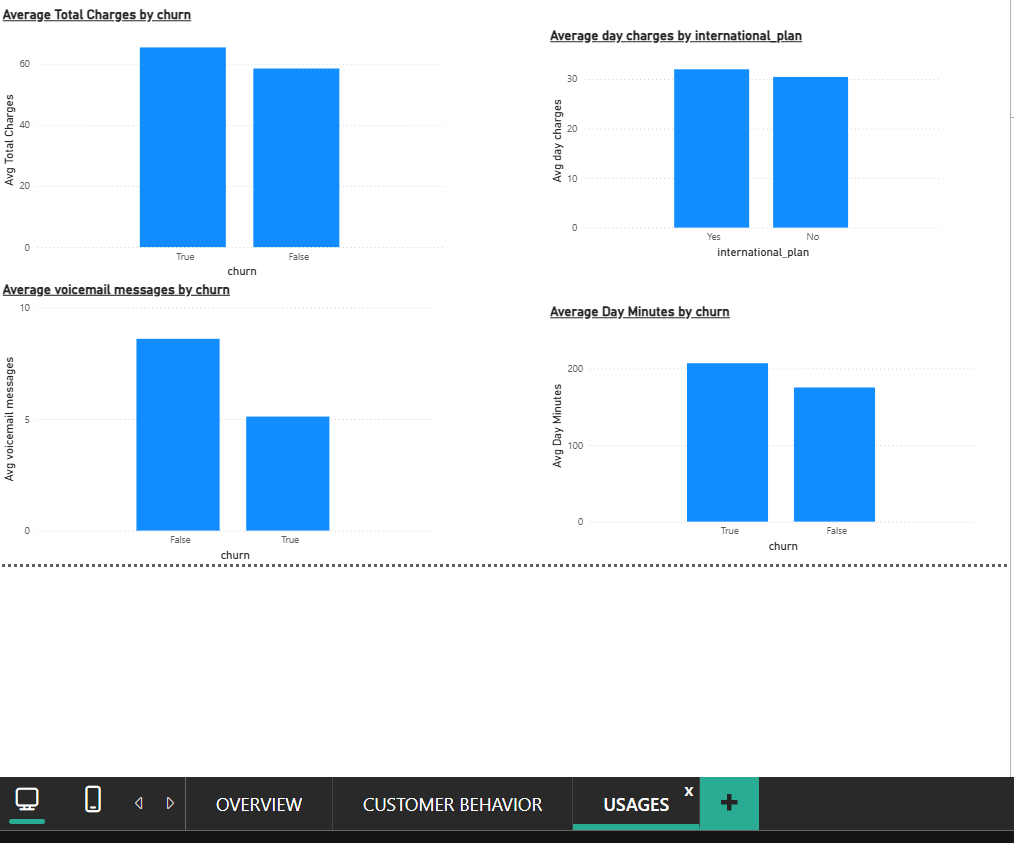

Layout of this report page (visuals, bound fields, positions):
{"tool":"powerbi","page":{"name":"USAGES","canvas":[1280,720],"ordinal":2},"visuals":[{"type":"columnChart","title":"Average Total Charges by churn","fields":{"Category":["churn_clean.churn"],"Y":["churn_clean.Avg Total Charges"]},"box":[5.7,17,568.8,345.8],"z":0},{"type":"clusteredColumnChart","title":"Average day charges by international_plan","fields":{"Y":["churn_clean.Avg day charges"],"Category":["churn_clean.international_plan"]},"box":[695.4,43.5,502.7,294.8],"z":1000},{"type":"clusteredColumnChart","title":"Average Day Minutes by churn","fields":{"Y":["churn_clean.Avg Day Minutes"],"Category":["churn_clean.churn"]},"box":[695.4,391.2,546.1,317.5],"z":1001},{"type":"clusteredColumnChart","title":"Average voicemail messages by  churn","fields":{"Category":["churn_clean.churn"],"Y":["churn_clean.Avg voicemail messages"]},"box":[5.7,362.8,551.8,357.2],"z":1002}]}

Visuals, with their boxes on the page's 1280x720 design canvas (x1, y1, x2, y2). These are canvas units, not pixel positions in the 1014x843 screenshot, which may show the page scaled, cropped or inside an application window:
"Average Total Charges by churn" columnChart: 6:17:574:363
"Average day charges by international_plan" clusteredColumnChart: 695:44:1198:338
"Average Day Minutes by churn" clusteredColumnChart: 695:391:1242:709
"Average voicemail messages by  churn" clusteredColumnChart: 6:363:558:720
